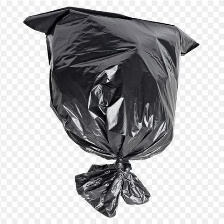plastic_bag: (17, 5, 203, 219)
